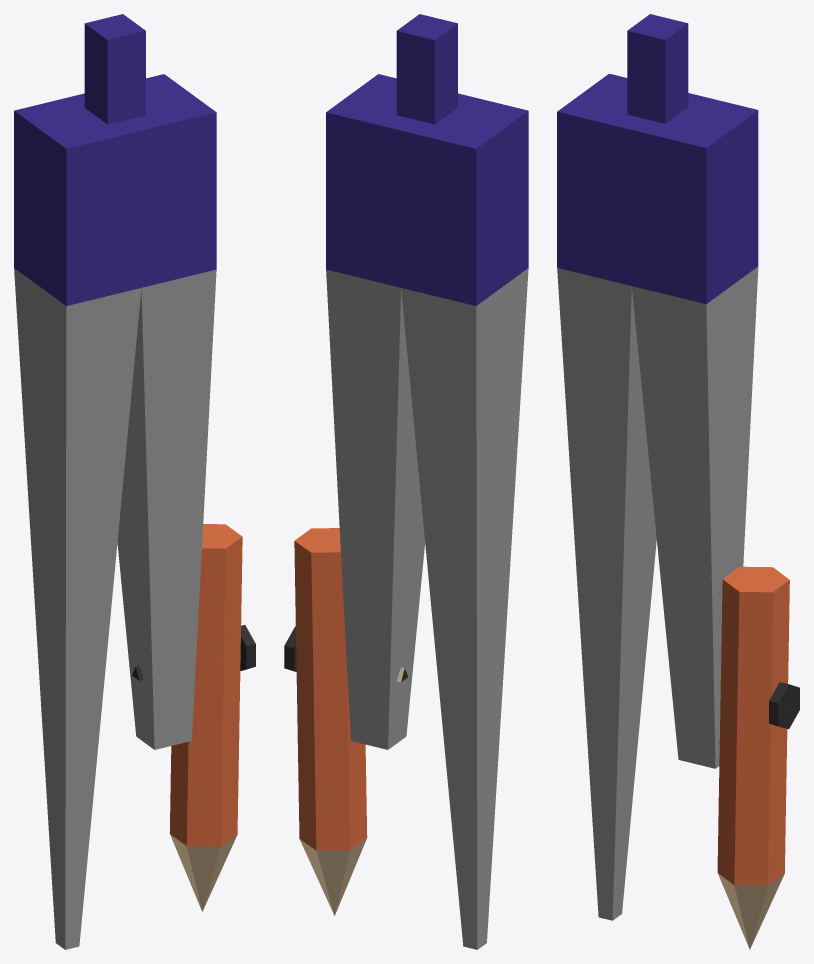
The model's file is drawingCompass.fbx.
3 renders of one model, left to right at view 1: azimuth 30°, elevation 25°; view 2: azimuth 150°, elevation 25°; view 3: azimuth 330°, elevation 25°, orthographic.
Visible parts, largest first — view 1: compass; view 2: compass; view 3: compass.
Boxes of the visible parts, bbox=[...] form: compass: bbox=[14, 14, 255, 949]; compass: bbox=[284, 14, 528, 949]; compass: bbox=[557, 14, 799, 949].
Size of the model in its own units: 5.95 by 24.47 by 2.56.
